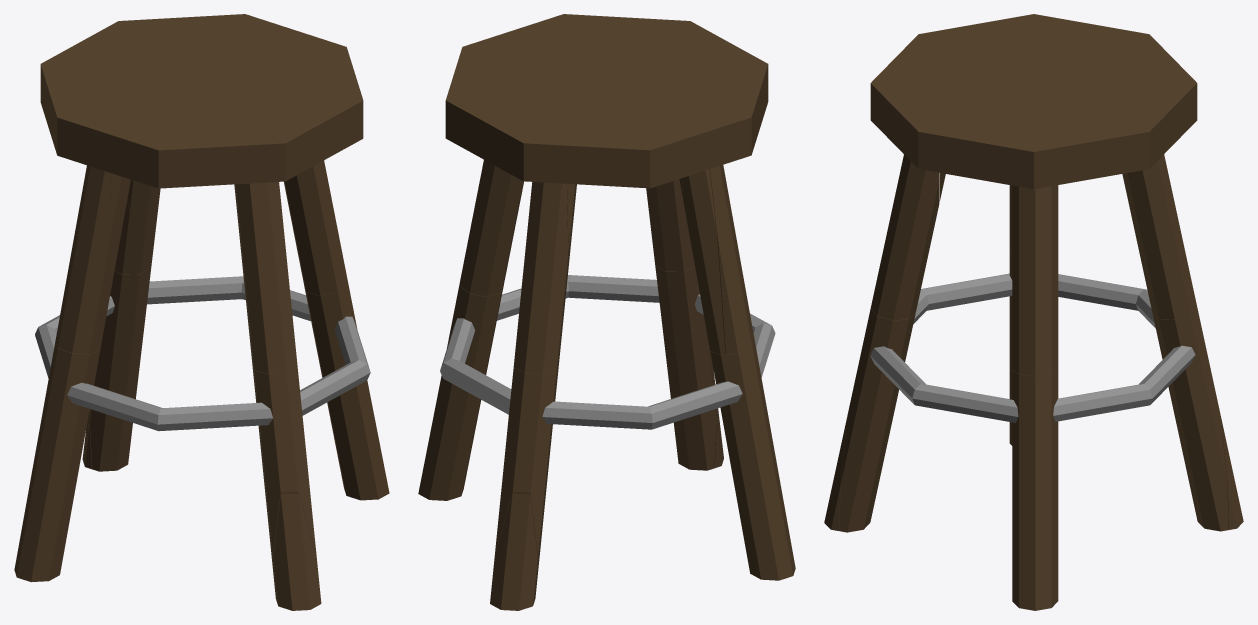
Rendered from LowPolyStoolShattered.glb.
3 views of the same model, side by side, from view 1: azimuth 30°, elevation 25°; view 2: azimuth 150°, elevation 25°; view 3: azimuth 270°, elevation 25° (orthographic). The views are drawn at different scales.
Visible parts, largest first — view 1: Stool2, Torus.003, Cylinder.005_cell.008, Cylinder.005_cell.007, Cylinder.005_cell.010, Cylinder.005_cell.002, Cylinder.005_cell.006, Cylinder.005_cell.013, Cylinder.005_cell.005, Cylinder.005_cell.009, Cylinder.005_cell.001, Cylinder.005_cell.011; view 2: Stool2, Torus.003, Cylinder.005_cell.008, Cylinder.005_cell.001, Cylinder.005_cell.013, Cylinder.005_cell.010, Cylinder.005_cell.006, Cylinder.005_cell.005, Cylinder.005_cell, Cylinder.005_cell.012, Cylinder.005_cell.002, Cylinder.005_cell.007 (+1 smaller); view 3: Stool2, Torus.003, Cylinder.005_cell.010, Cylinder.005_cell.005, Cylinder.005_cell.006, Cylinder.005_cell.013, Cylinder.005_cell.001, Cylinder.005_cell.007, Cylinder.005_cell.009, Cylinder.005_cell.012, Cylinder.005_cell.008.
Boxes of the visible parts, <box> form: Stool2: <box>40,14,363,188</box>; Torus.003: <box>35,276,370,431</box>; Cylinder.005_cell.008: <box>14,343,99,582</box>; Cylinder.005_cell.007: <box>235,182,297,373</box>; Cylinder.005_cell.010: <box>304,284,389,500</box>; Cylinder.005_cell.002: <box>55,165,112,353</box>; Cylinder.005_cell.006: <box>90,267,151,471</box>; Cylinder.005_cell.013: <box>252,365,316,601</box>; Cylinder.005_cell.005: <box>284,160,348,295</box>; Cylinder.005_cell.009: <box>273,493,321,610</box>; Cylinder.005_cell.001: <box>114,184,160,274</box>; Cylinder.005_cell.011: <box>110,173,130,278</box>; Stool2: <box>445,14,768,188</box>; Torus.003: <box>440,275,775,429</box>; Cylinder.005_cell.008: <box>710,340,795,580</box>; Cylinder.005_cell.001: <box>513,182,568,374</box>; Cylinder.005_cell.013: <box>655,265,716,470</box>; Cylinder.005_cell.010: <box>418,285,503,500</box>; Cylinder.005_cell.006: <box>494,367,558,601</box>; Cylinder.005_cell.005: <box>459,160,523,296</box>; Cylinder.005_cell: <box>682,169,725,354</box>; Cylinder.005_cell.012: <box>490,493,537,610</box>; Cylinder.005_cell.002: <box>709,165,754,354</box>; Cylinder.005_cell.007: <box>646,179,694,271</box>; Stool2: <box>870,14,1197,189</box>; Torus.003: <box>870,273,1195,422</box>; Cylinder.005_cell.010: <box>1012,370,1058,610</box>; Cylinder.005_cell.005: <box>1012,185,1058,375</box>; Cylinder.005_cell.006: <box>1152,307,1228,531</box>; Cylinder.005_cell.013: <box>839,308,915,532</box>; Cylinder.005_cell.001: <box>1124,154,1196,319</box>; Cylinder.005_cell.007: <box>871,155,939,320</box>; Cylinder.005_cell.009: <box>824,417,847,530</box>; Cylinder.005_cell.012: <box>1220,416,1243,529</box>; Cylinder.005_cell.008: <box>1009,251,1012,445</box>.
Size of the model in its own units: 2.57 by 2.97 by 2.57.
